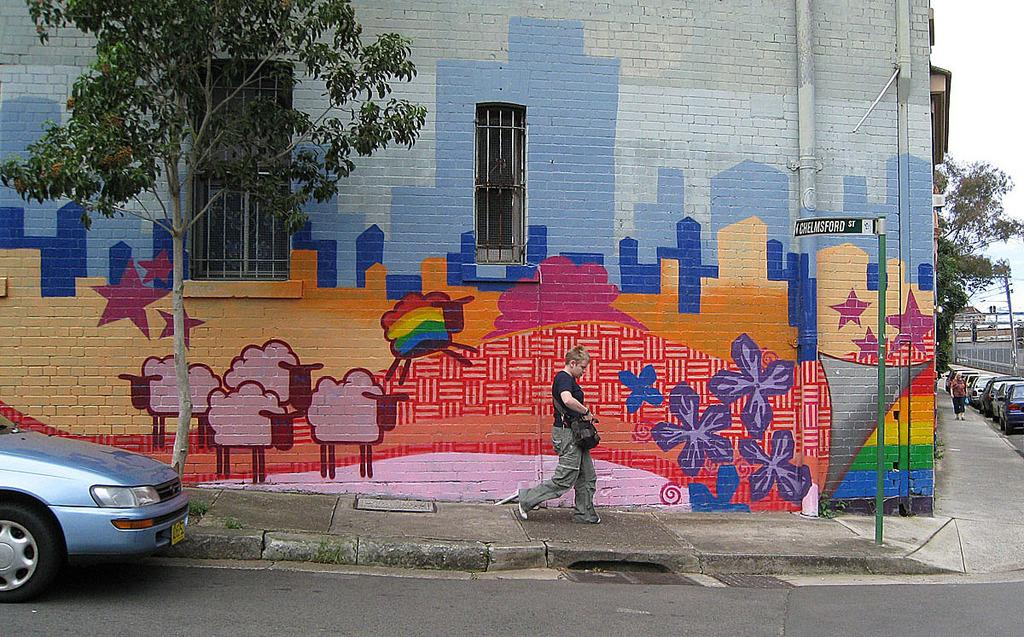Car: (0, 428, 188, 580), (997, 385, 1023, 432), (980, 377, 1007, 415), (969, 375, 992, 407)
